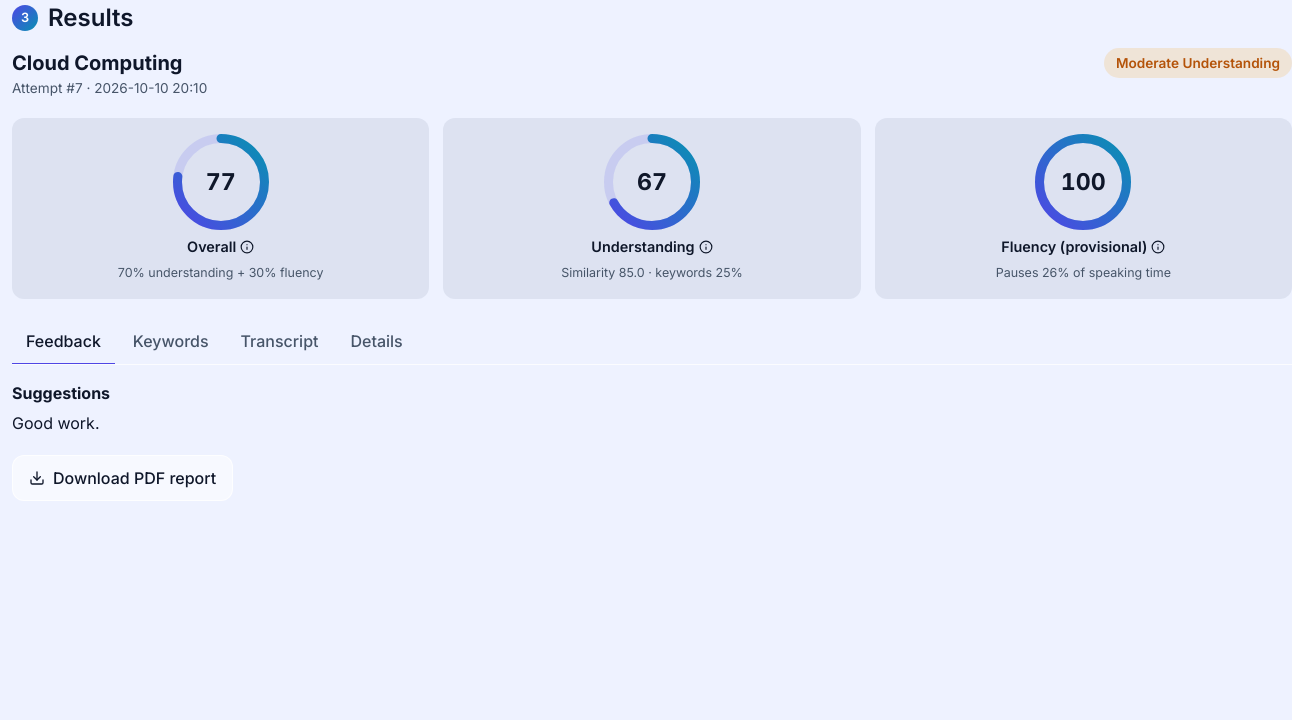
Test case: Delivery measures › are listed in Details as not scored
Click the tab "Details" at (377, 342), box [336,319,417,365]
(page scrolled)
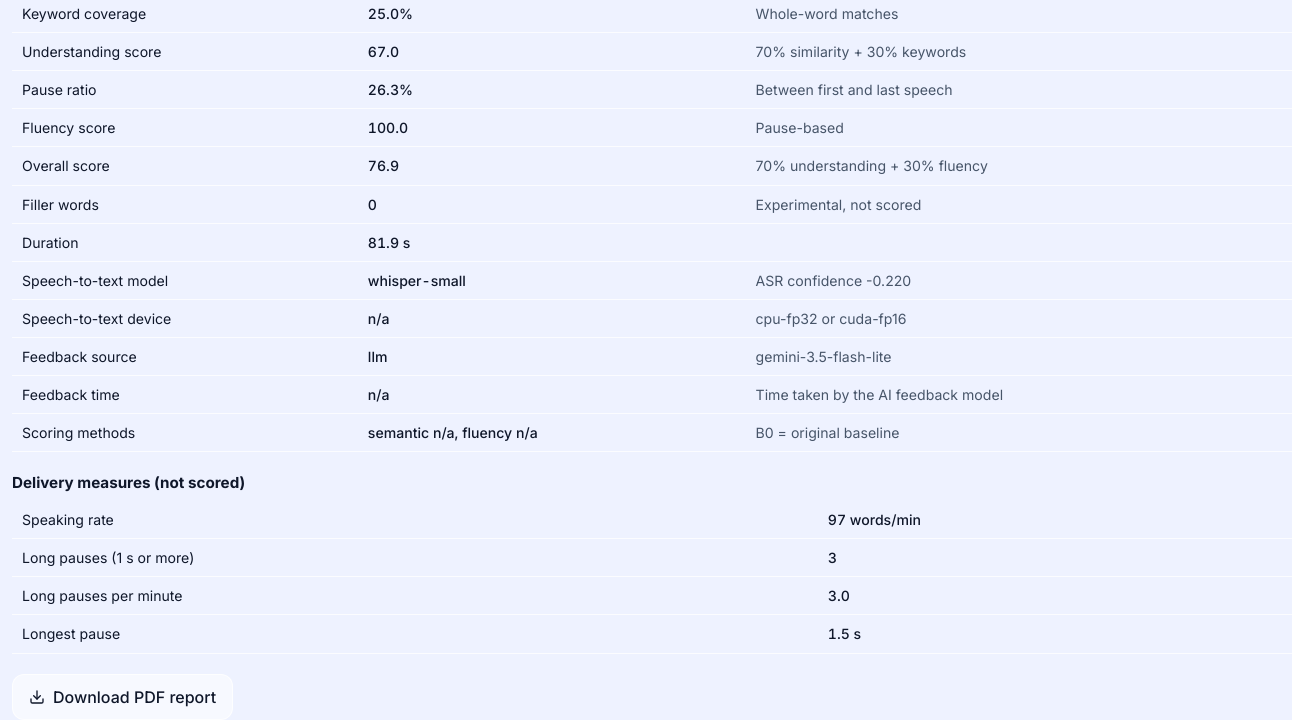
Result: the text "97 words/min" is shown at [818,501,1291,539]
Result: the text "3" is shown at [818,539,1291,577]
Result: the text "3.0" is shown at [818,577,1291,615]
